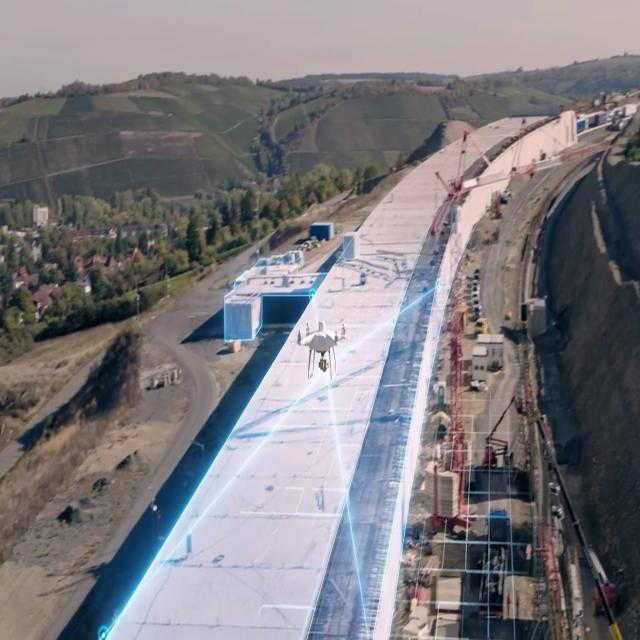drone: (295, 318, 349, 380)
